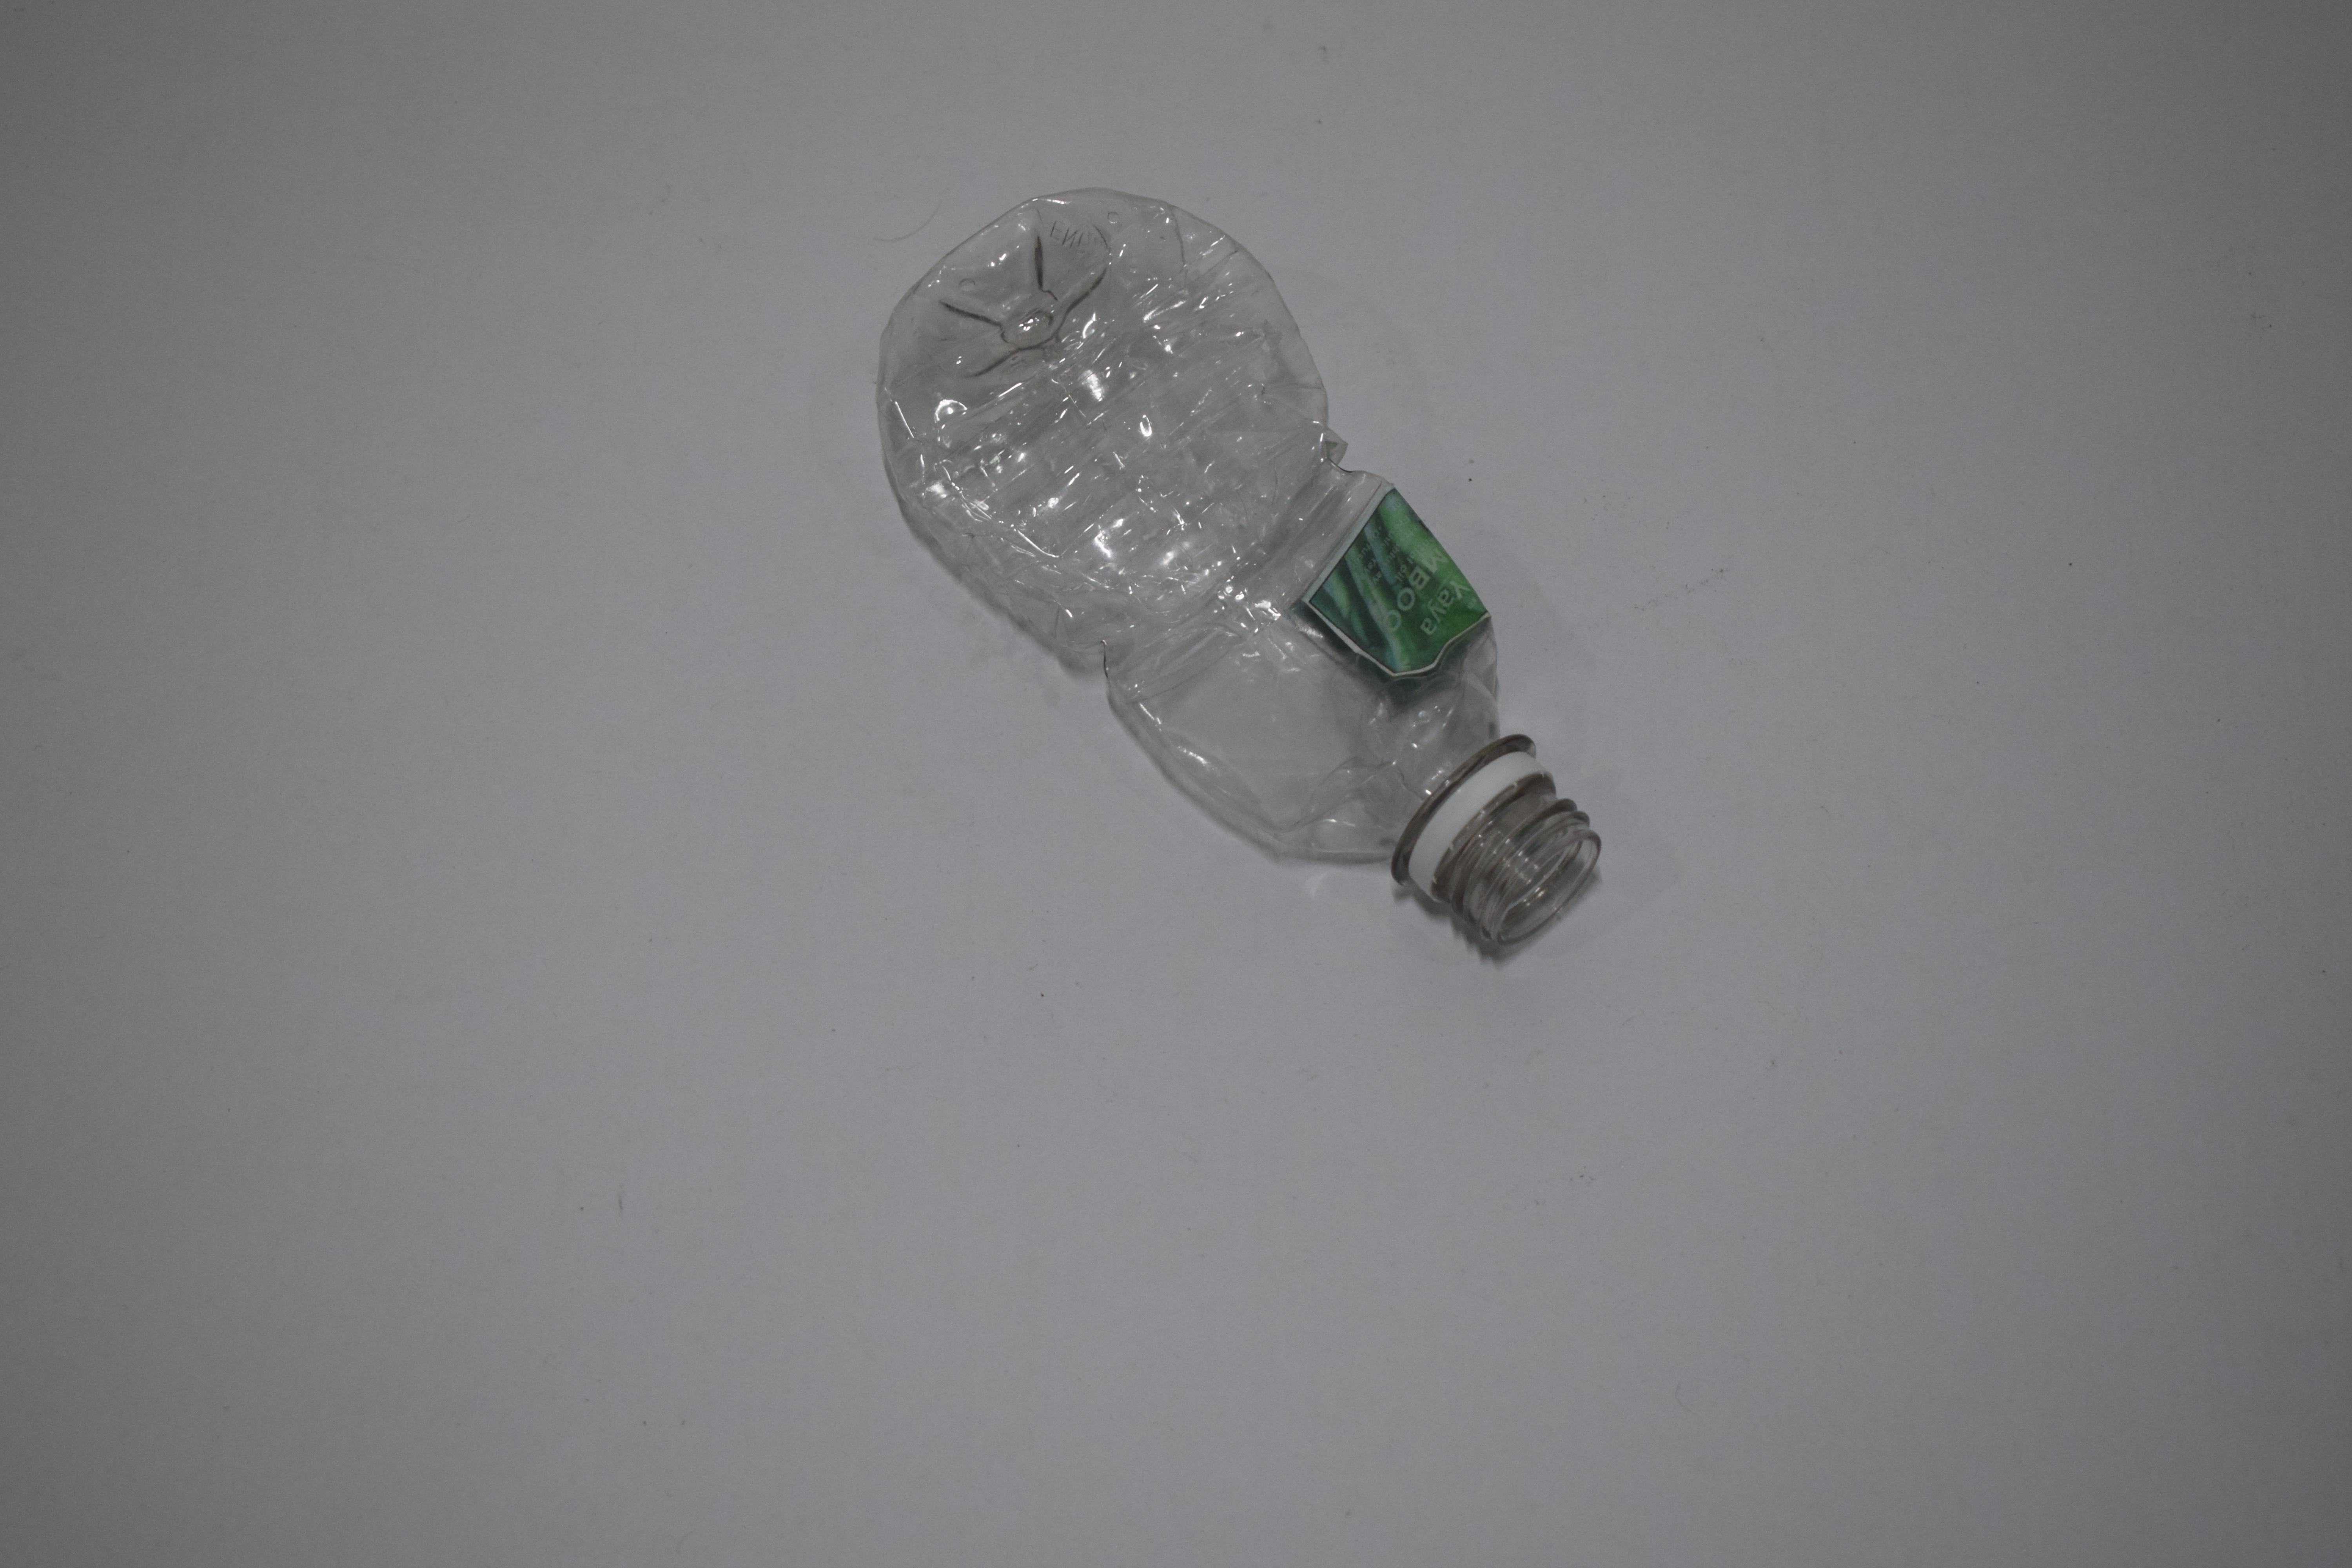bottle: (0, 576, 429, 579)
